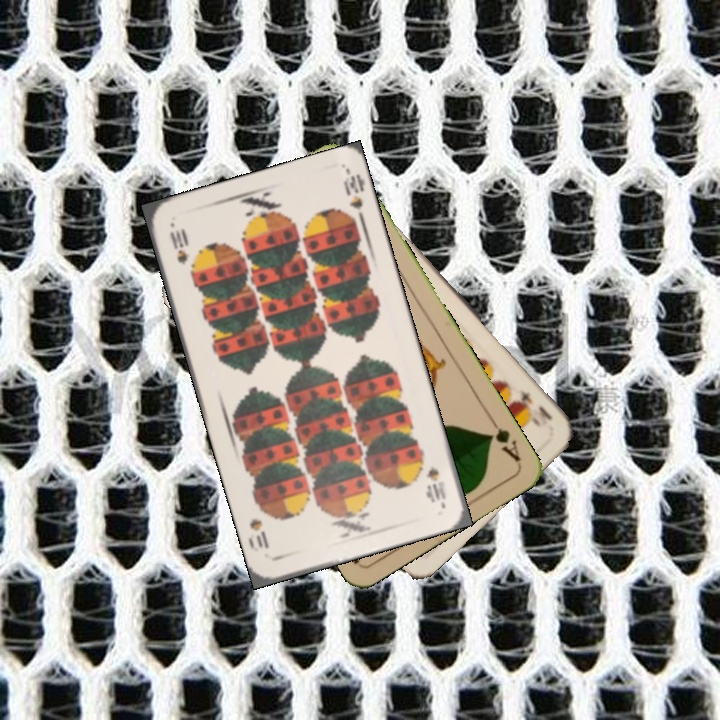E10: (511, 386, 555, 430)
GA: (483, 412, 523, 465)
S10: (422, 462, 449, 507), (165, 225, 191, 268)
